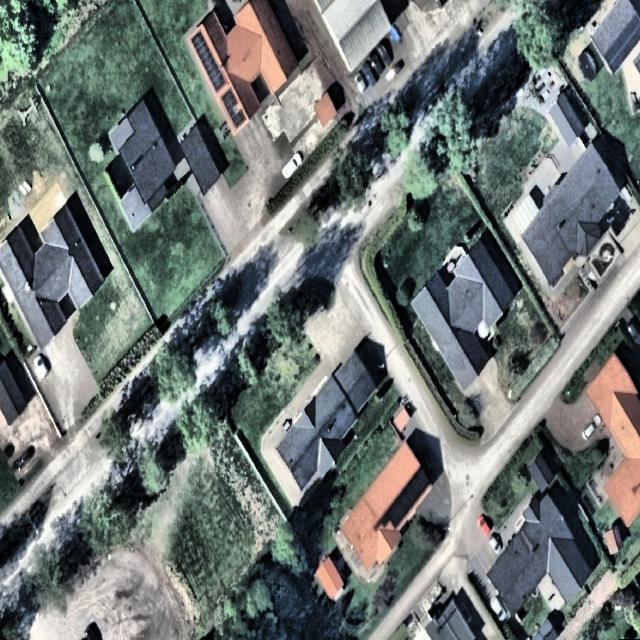roof_pv: (600, 12, 640, 81), (386, 468, 433, 522), (190, 29, 227, 93), (220, 88, 248, 132), (374, 501, 394, 531)
